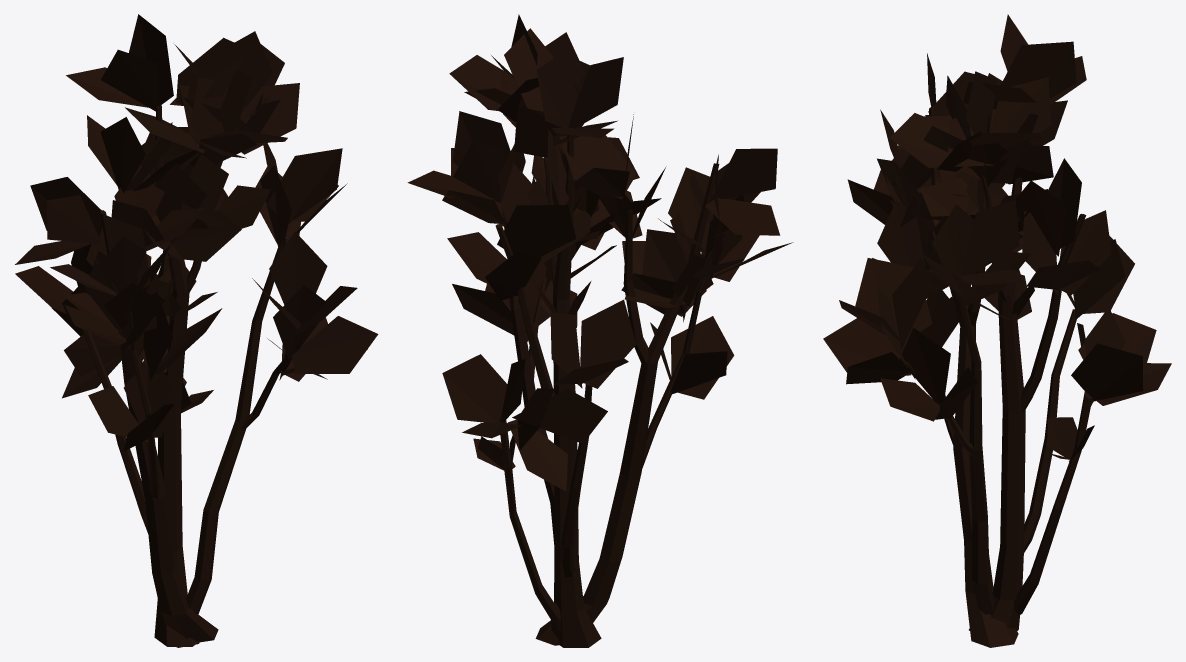
File: bush-magnolia-flowering-mature-a.fbx
3 views of the same model, side by side, from view 1: azimuth 30°, elevation 25°; view 2: azimuth 150°, elevation 25°; view 3: azimuth 270°, elevation 25° (orthographic).
Visible parts, largest first — view 1: bush-magnolia-flowering-mature-a; view 2: bush-magnolia-flowering-mature-a; view 3: bush-magnolia-flowering-mature-a.
Part boxes in pixels (left/top/right/bottom): bush-magnolia-flowering-mature-a: left=15, top=14, right=378, bottom=647; bush-magnolia-flowering-mature-a: left=407, top=14, right=793, bottom=647; bush-magnolia-flowering-mature-a: left=823, top=14, right=1171, bottom=647.
Bounding box in the file's own units: 1183 × 2007 × 1073.
